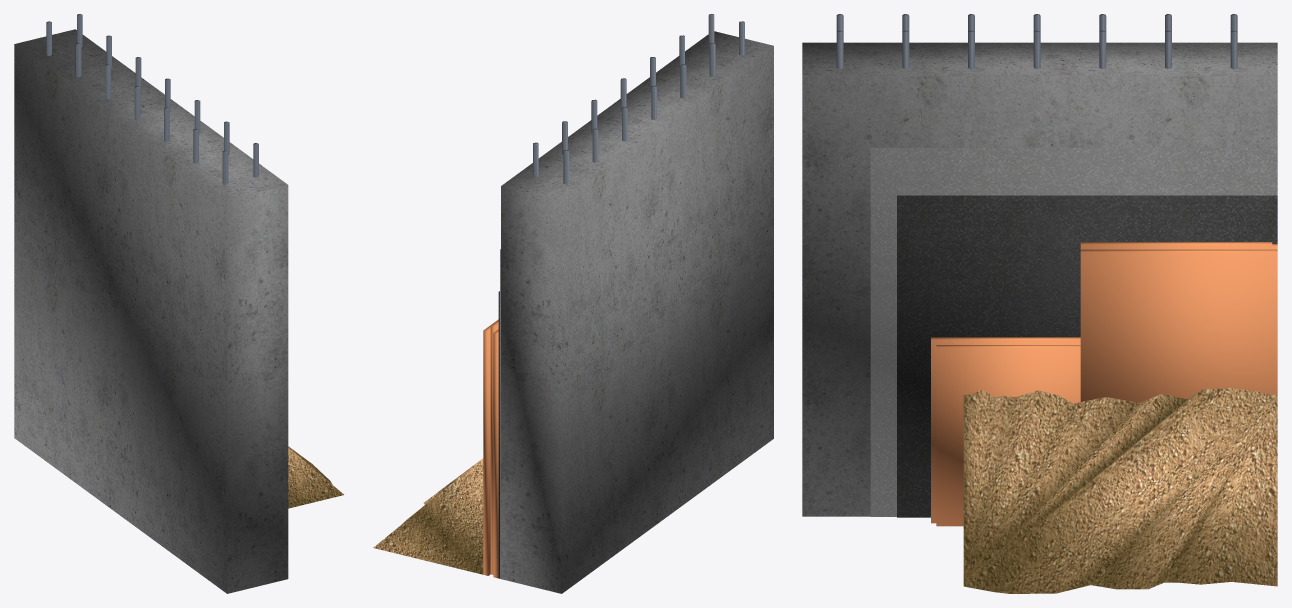
Rendered from weberfundation.gltf.
The picture shows the model from 3 angles, left to right: view 1: azimuth 30°, elevation 25°; view 2: azimuth 150°, elevation 25°; view 3: azimuth 270°, elevation 25°; orthographic projection. The views are drawn at different scales.
Visible parts, largest first — view 1: Бетон - основание, Металл - Железо, Грунт - Коричневый; view 2: Бетон - основание, Грунт - Коричневый, Краска - Золотисто-Охристая, Металл - Железо, Дорожное Покрытие - Асфальт Св_e5724c8; view 3: Бетон - основание, Грунт - Коричневый, Краска - Золотисто-Охристая, Дорожное Покрытие - Асфальт Св_e5724c8, Дорожное Покрытие - Асфальт Св_f8b385f, Металл - Железо.
Boxes of the visible parts, box(x1,y1,x2,y2) form: Бетон - основание: box(14, 29, 288, 593); Металл - Железо: box(46, 14, 258, 184); Грунт - Коричневый: box(288, 446, 343, 508); Бетон - основание: box(501, 31, 773, 593); Грунт - Коричневый: box(373, 458, 483, 574); Краска - Золотисто-Охристая: box(483, 319, 498, 578); Металл - Железо: box(533, 14, 744, 184); Дорожное Покрытие - Асфальт Св_e5724c8: box(498, 291, 499, 578); Бетон - основание: box(802, 42, 1277, 516); Грунт - Коричневый: box(963, 387, 1277, 593); Краска - Золотисто-Охристая: box(931, 242, 1277, 526); Дорожное Покрытие - Асфальт Св_e5724c8: box(897, 195, 1277, 517); Дорожное Покрытие - Асфальт Св_f8b385f: box(870, 147, 1277, 516); Металл - Железо: box(836, 14, 1237, 69).
Bounding box in the file's own units: 0.9767 × 2.02 × 1.81.
Materials: 6 (5 with a texture image).
